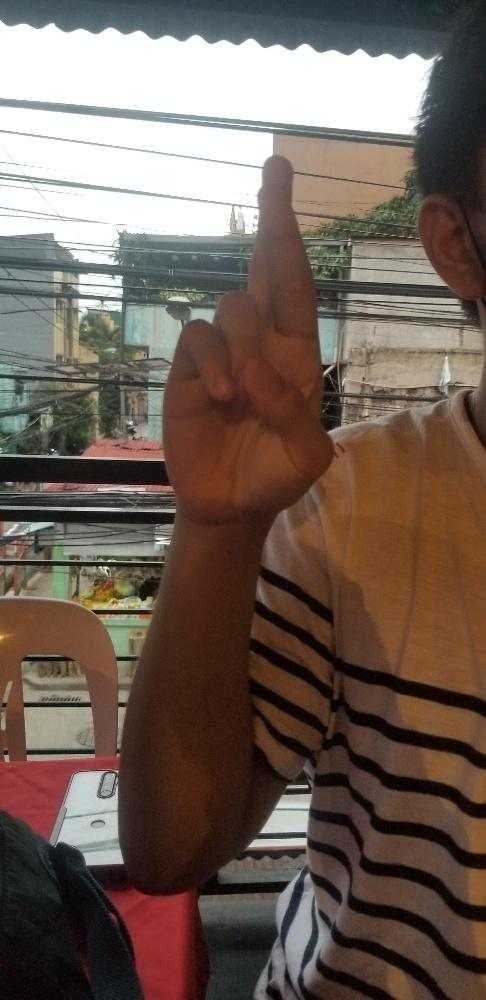r: (159, 152, 334, 518)
